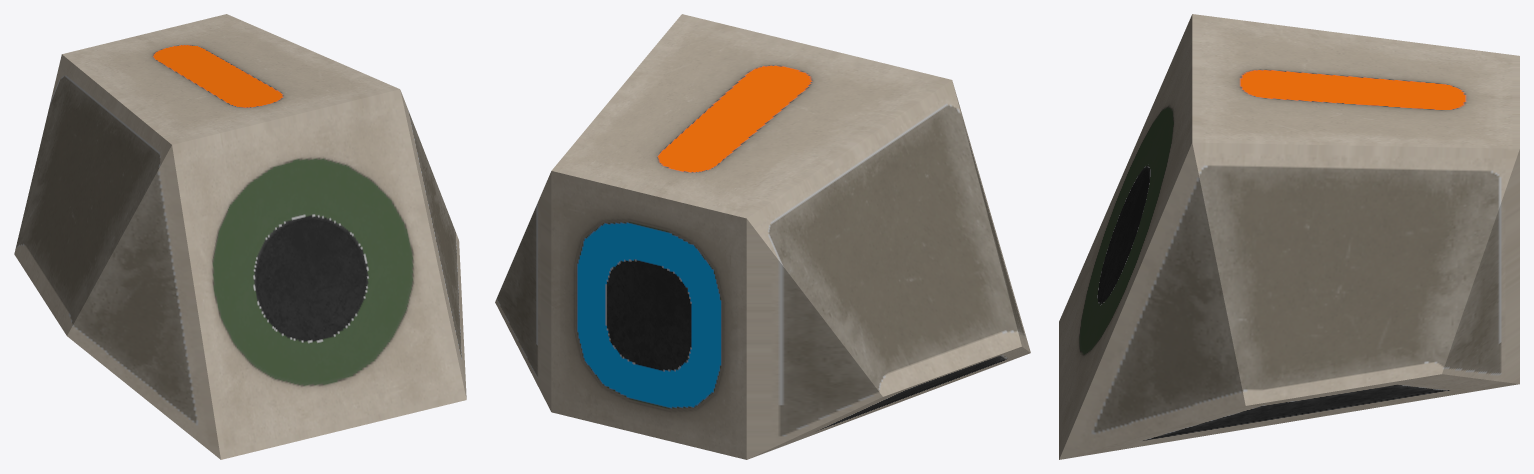
Rendered from RobotBug.fbx.
3 renders of one model, left to right at view 1: azimuth 30°, elevation 25°; view 2: azimuth 150°, elevation 25°; view 3: azimuth 270°, elevation 25°, orthographic. The views are drawn at different scales.
Parts seen in each view (by area): view 1: RobotBug; view 2: RobotBug; view 3: RobotBug.
Part boxes in pixels (bbox=[...]): RobotBug: bbox=[14, 14, 466, 459]; RobotBug: bbox=[495, 14, 1030, 459]; RobotBug: bbox=[1059, 14, 1519, 459].
Size of the model in its own units: 1.6 by 1.05 by 1.41.
1 material, 1 textured.
